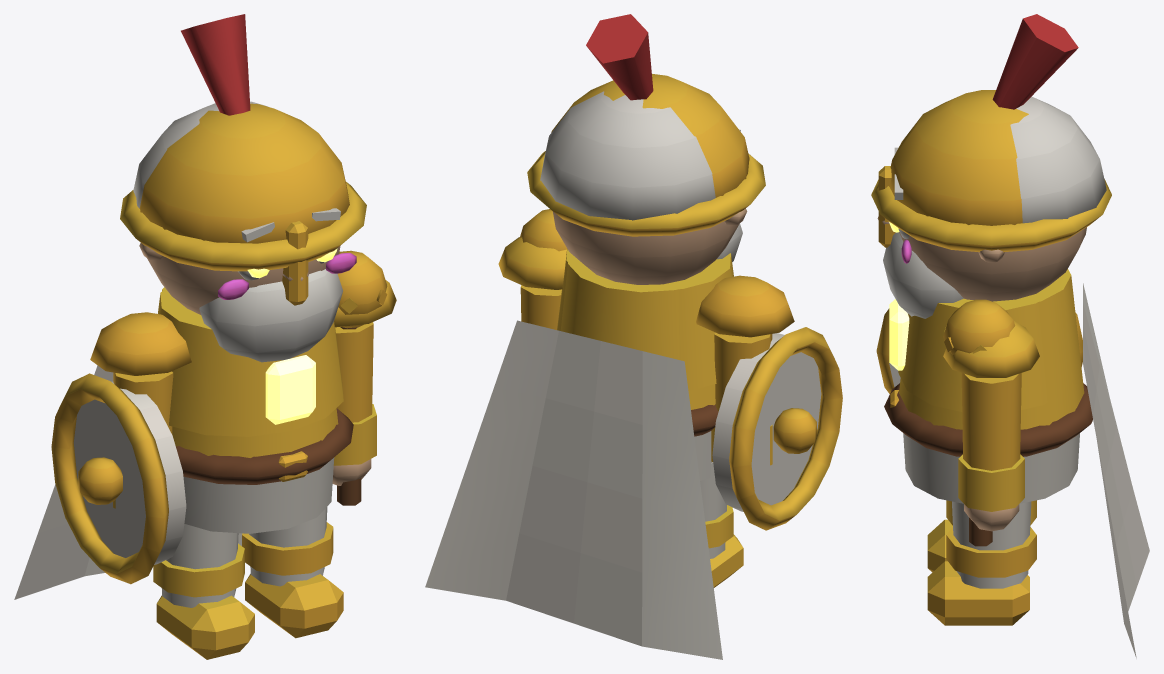
Rendered from hero_tiberius.glb.
The picture shows the model from 3 angles, left to right: view 1: azimuth 30°, elevation 25°; view 2: azimuth 150°, elevation 25°; view 3: azimuth 270°, elevation 25°; orthographic projection. The views are drawn at different scales.
Parts seen in each view (by area): view 1: body_t0_palette, arml_t0_palette, legl_t0_palette, legr_t0_palette, armr_t0_palette, body_t0_glow_gold; view 2: body_t0_palette, arml_t0_palette, armr_t0_palette, legl_t0_palette; view 3: body_t0_palette, armr_t0_palette, legr_t0_palette, body_t0_glow_gold, legl_t0_palette, arml_t0_palette.
Part boxes in pixels (bbox=[...]): body_t0_palette: bbox=[14, 14, 366, 599]; arml_t0_palette: bbox=[51, 312, 191, 584]; legl_t0_palette: bbox=[153, 524, 254, 659]; legr_t0_palette: bbox=[242, 507, 343, 638]; armr_t0_palette: bbox=[332, 250, 396, 505]; body_t0_glow_gold: bbox=[247, 248, 337, 424]; body_t0_palette: bbox=[425, 14, 765, 659]; arml_t0_palette: bbox=[696, 275, 842, 530]; armr_t0_palette: bbox=[498, 209, 566, 329]; legl_t0_palette: bbox=[700, 462, 743, 587]; body_t0_palette: bbox=[871, 14, 1149, 658]; armr_t0_palette: bbox=[943, 299, 1039, 546]; legr_t0_palette: bbox=[927, 501, 1036, 625]; body_t0_glow_gold: bbox=[889, 222, 909, 370]; legl_t0_palette: bbox=[927, 500, 1036, 572]; arml_t0_palette: bbox=[876, 308, 1082, 393].
Size of the model in its own units: 0.3349 by 0.5929 by 0.259.
